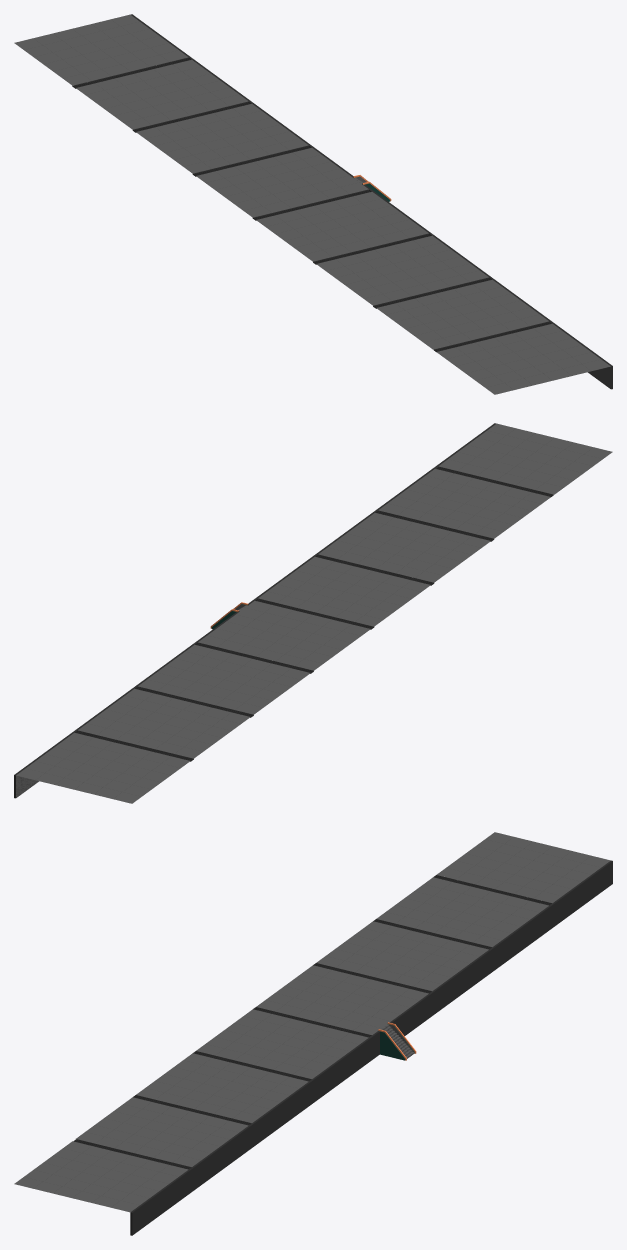
Rendered from SideWalk_5.fbx.
3 renders of one model, top to bottom at view 1: azimuth 30°, elevation 25°; view 2: azimuth 150°, elevation 25°; view 3: azimuth 330°, elevation 25°, orthographic.
Visible parts, largest first — view 1: SideWalk.001; view 2: SideWalk.001; view 3: SideWalk.001.
Boxes of the visible parts, x1,y1,x2,y2 form: SideWalk.001: [14, 14, 612, 394]; SideWalk.001: [14, 423, 612, 803]; SideWalk.001: [14, 832, 612, 1235].
Size of the model in its own units: 3750 by 602 by 21619.
Materials: 2 (2 with a texture image).
